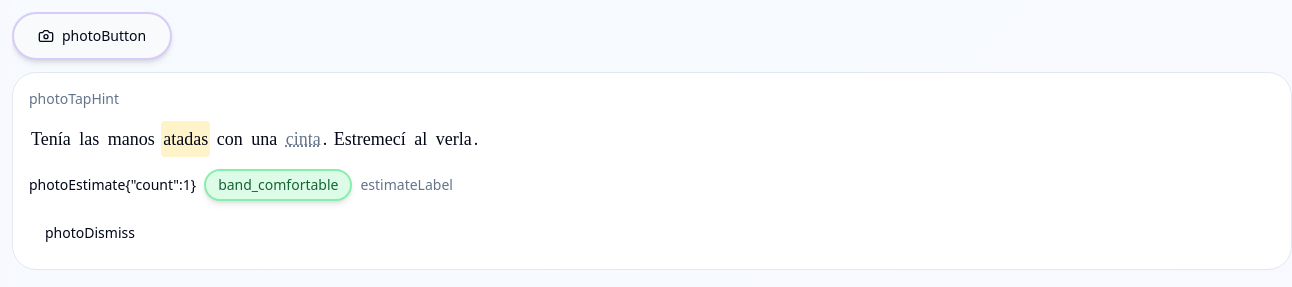
Test case: BookPagePhoto › marks a tapped word with its own sentence and the current page, and a second tap undoes it
Earlier steps of the test are not shown.
Later steps or results of the test are not shown.
Check: the element with test id "page-photo-text" is shown, box [29, 121, 478, 157]
What coordinates should you click on to do the following:
click the button "Estremecí"
I would click on:
 (370, 139)
Its box is [332, 121, 408, 157].
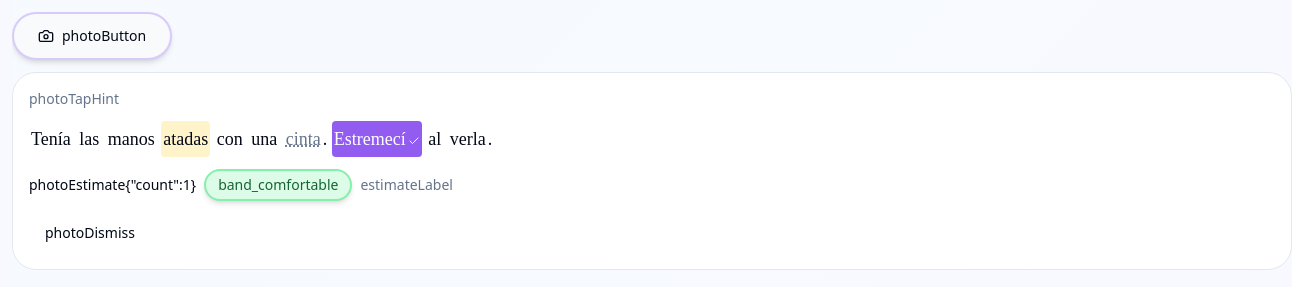
Check: the button "Estremecí" is pressed, box [332, 121, 422, 157]
